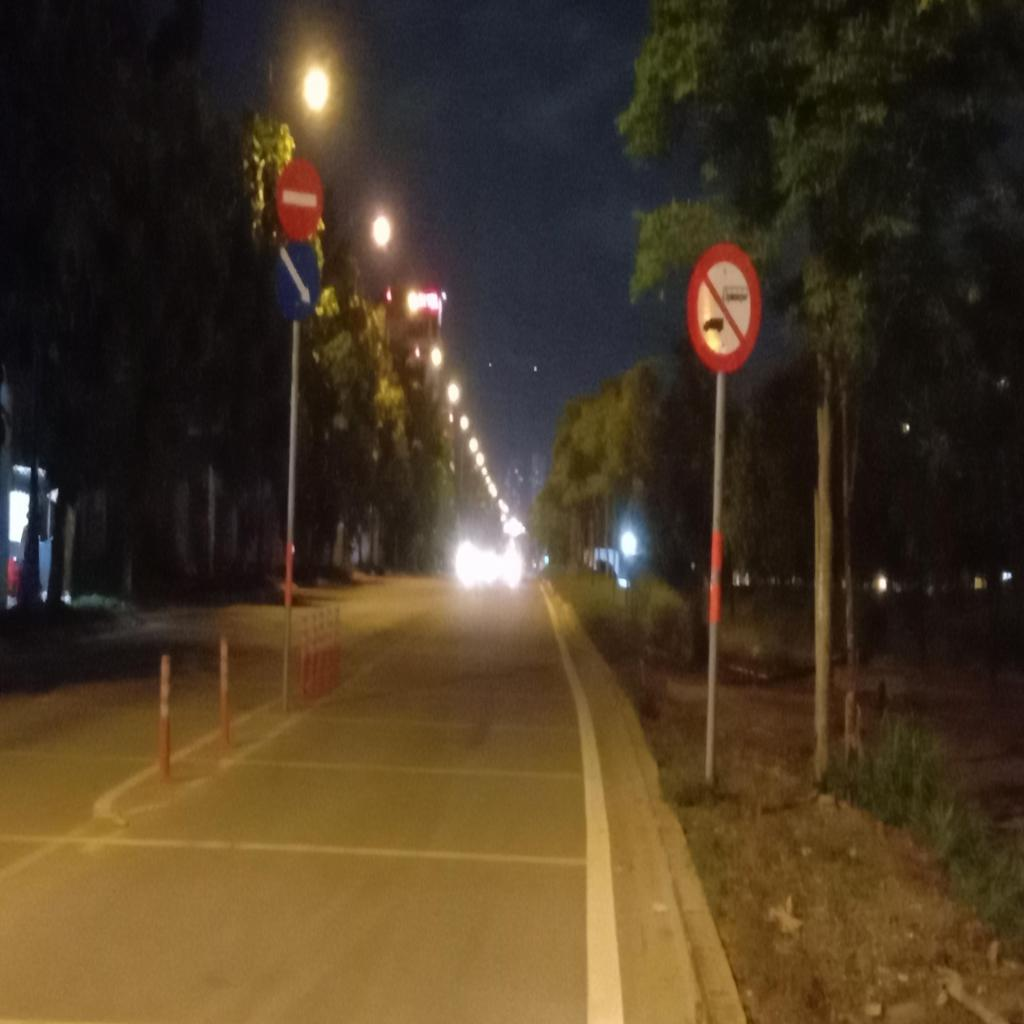cam_o_to_tai_va_xe_khach: (687, 242, 762, 376)
cam_xe_di_nguoc_chieu: (276, 157, 324, 239)
huong_phai_di_vuot_chuong_ngai_vat_phai: (272, 239, 320, 324)
